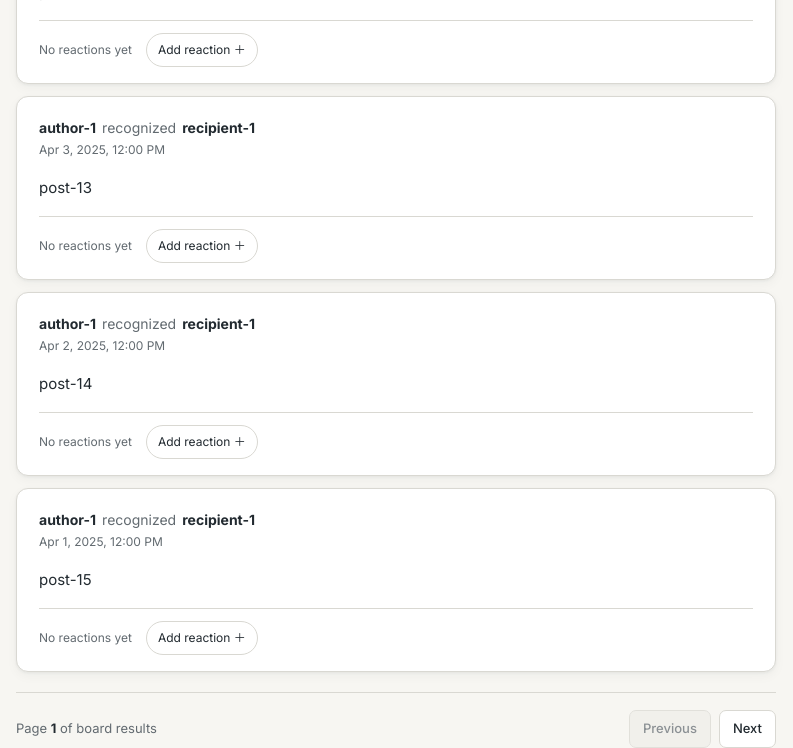
[AC-5] renders newest-first pages capped at 20 and offers accessible pagination
(page scrolled)
Expected: the button with aria-label "Previous page" is disabled, [629,710,711,747]
Click the button with aria-label "Next page" at (747, 729), box [719,710,776,747]
(page scrolled)
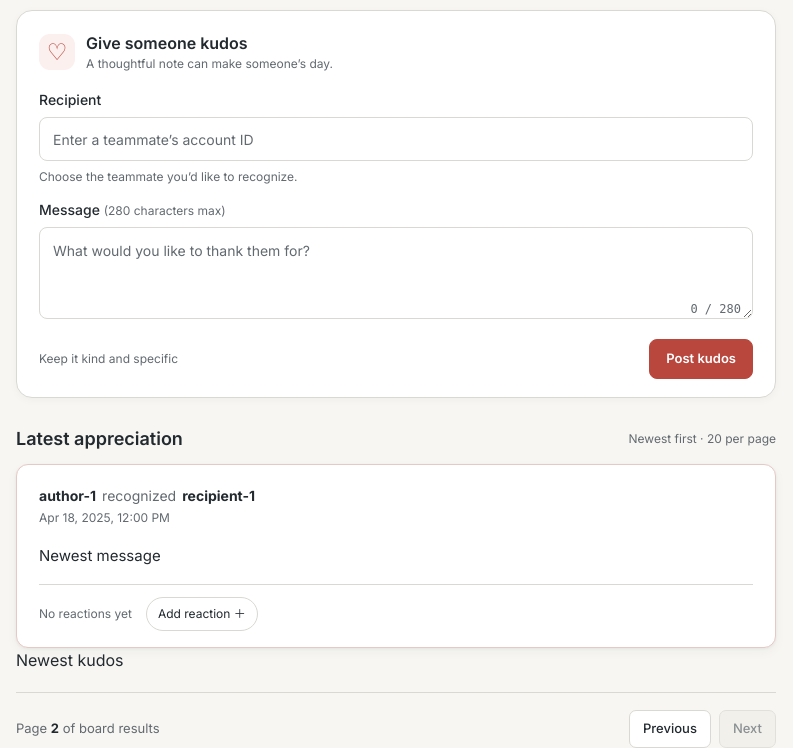
Expected: the text "Newest message" is shown, [39,546,161,565]
Expected: the button with aria-label "Previous page" is enabled, [629,710,711,747]
